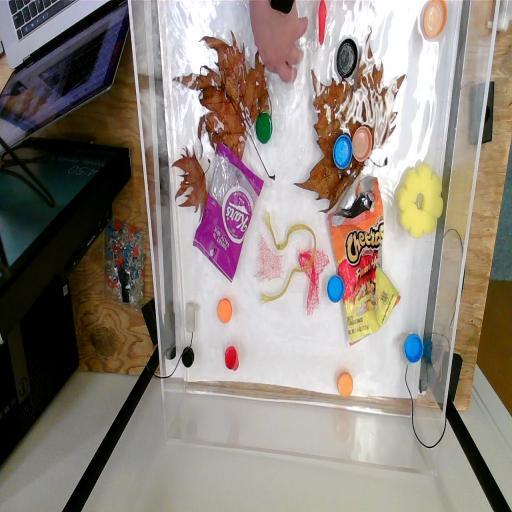Bottle Cap: (334, 35, 360, 82), (420, 0, 448, 43), (351, 120, 375, 168), (402, 330, 426, 368), (332, 132, 354, 172), (254, 108, 274, 146), (335, 368, 356, 404), (216, 292, 234, 328), (326, 272, 346, 304), (181, 344, 196, 370)
Cone Cap: (223, 342, 241, 378)
Leaf: (305, 36, 399, 204), (175, 31, 277, 174), (168, 145, 212, 218)
Netting: (298, 244, 330, 322), (254, 228, 286, 289)
Plastic Bag: (326, 173, 400, 356), (192, 140, 264, 284)
Plastic Strand: (258, 207, 318, 310), (314, 0, 330, 49)
Sponge: (396, 159, 446, 241)
